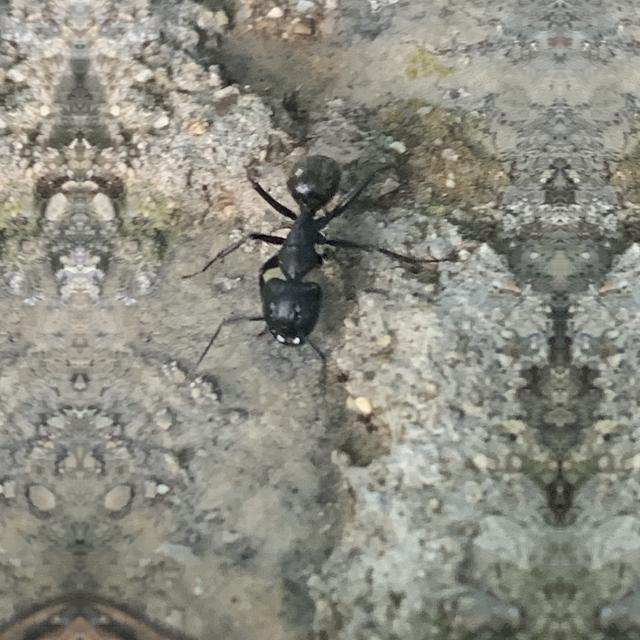Camponotus: (225, 130, 389, 352)
